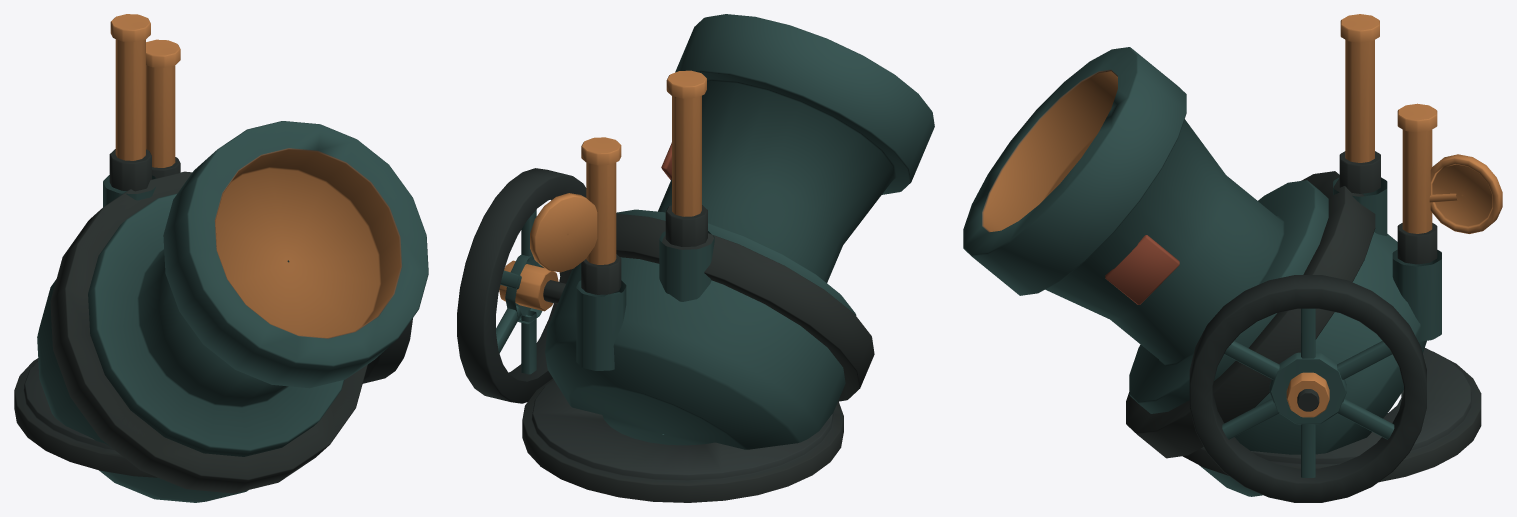
File: cannon_launcher_body.glb
3 views of the same model, side by side, from view 1: azimuth 30°, elevation 25°; view 2: azimuth 150°, elevation 25°; view 3: azimuth 270°, elevation 25° (orthographic).
Parts seen in each view (by area): view 1: Body, Fittings; view 2: Body, Fittings; view 3: Body, Fittings.
Boxes of the visible parts, box(x1,y1,x2,y2) form: Body: box(37, 121, 428, 502); Fittings: box(14, 14, 367, 493); Body: box(457, 14, 934, 449); Fittings: box(499, 70, 874, 502); Body: box(963, 47, 1441, 502); Fittings: box(1126, 14, 1502, 482).
Size of the model in its own units: 7.36 by 9.44 by 10.38.
